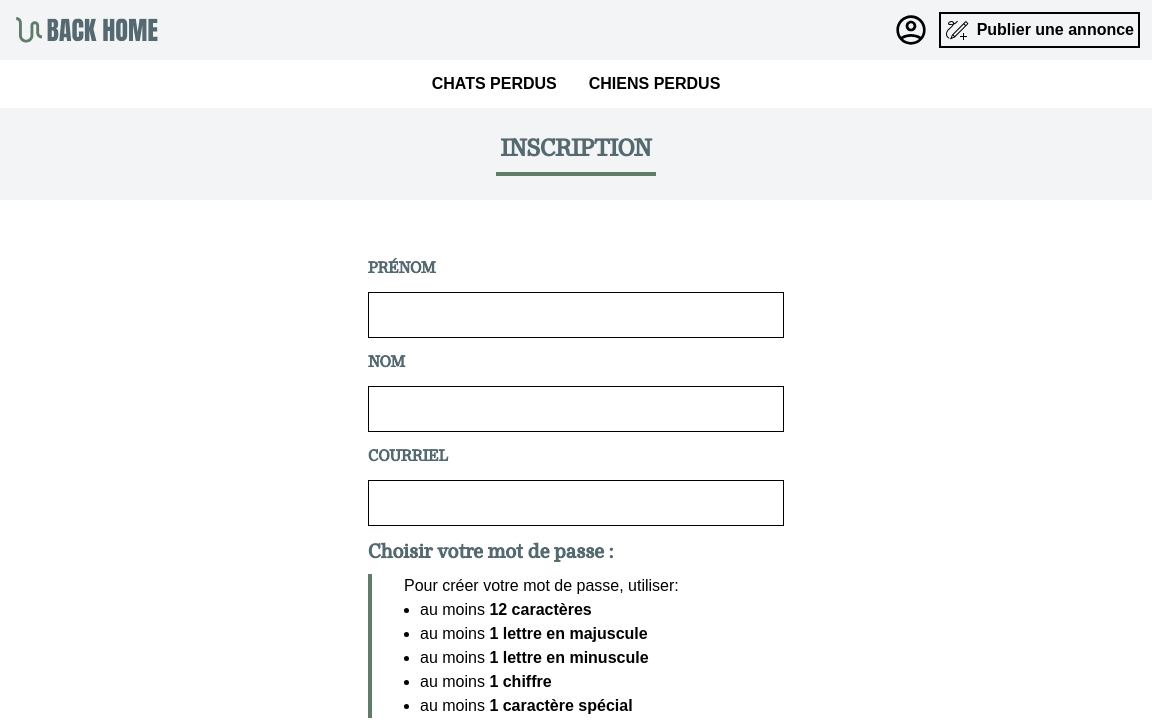
it: Register View page › all resolution › should display error message if the user enter a wrong format
The image size is (1152, 720).
Type "wrongemailformat.fr" into the field named "email" at (576, 503), box [368, 480, 784, 526]
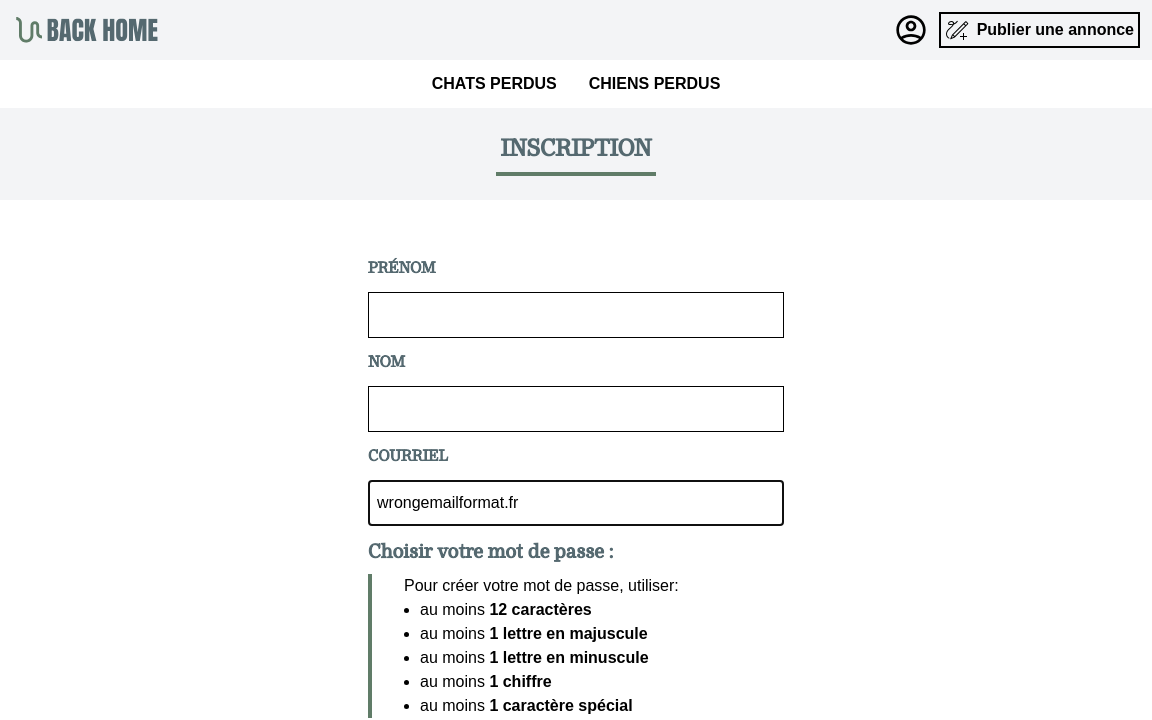
Leave the field named "email", box [368, 480, 784, 526]
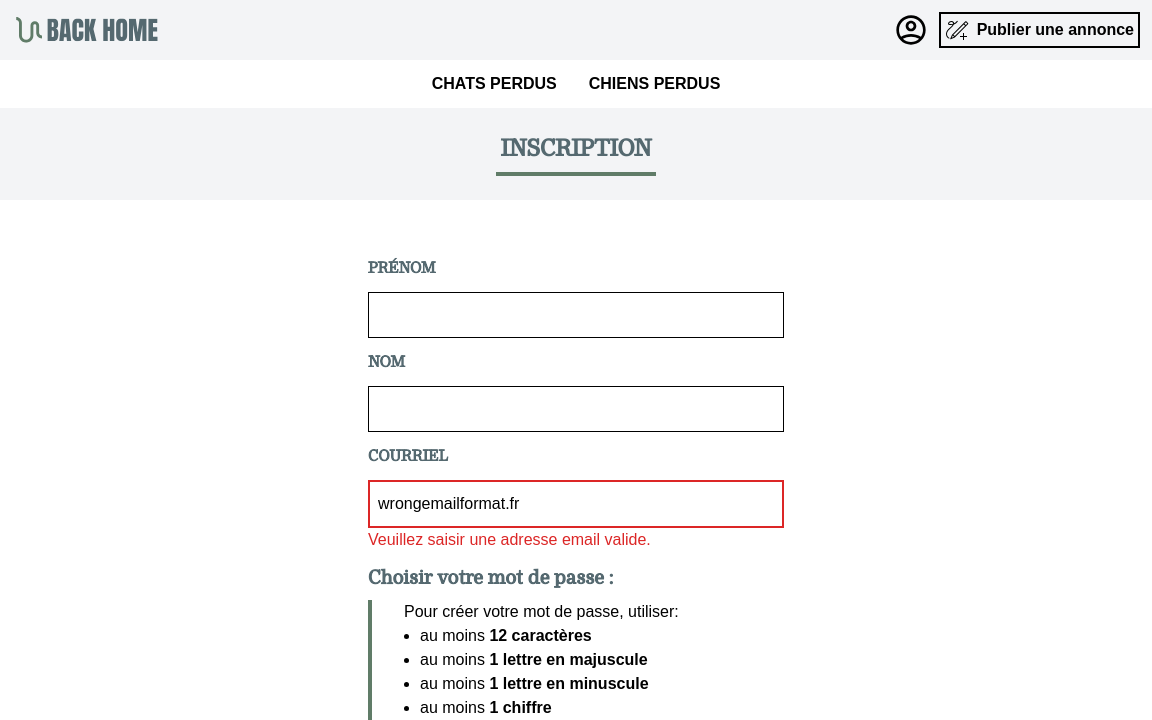
Expected: the message with test id "email_error" reads "Veuillez saisir une adresse email valide.", [368, 531, 651, 548]
